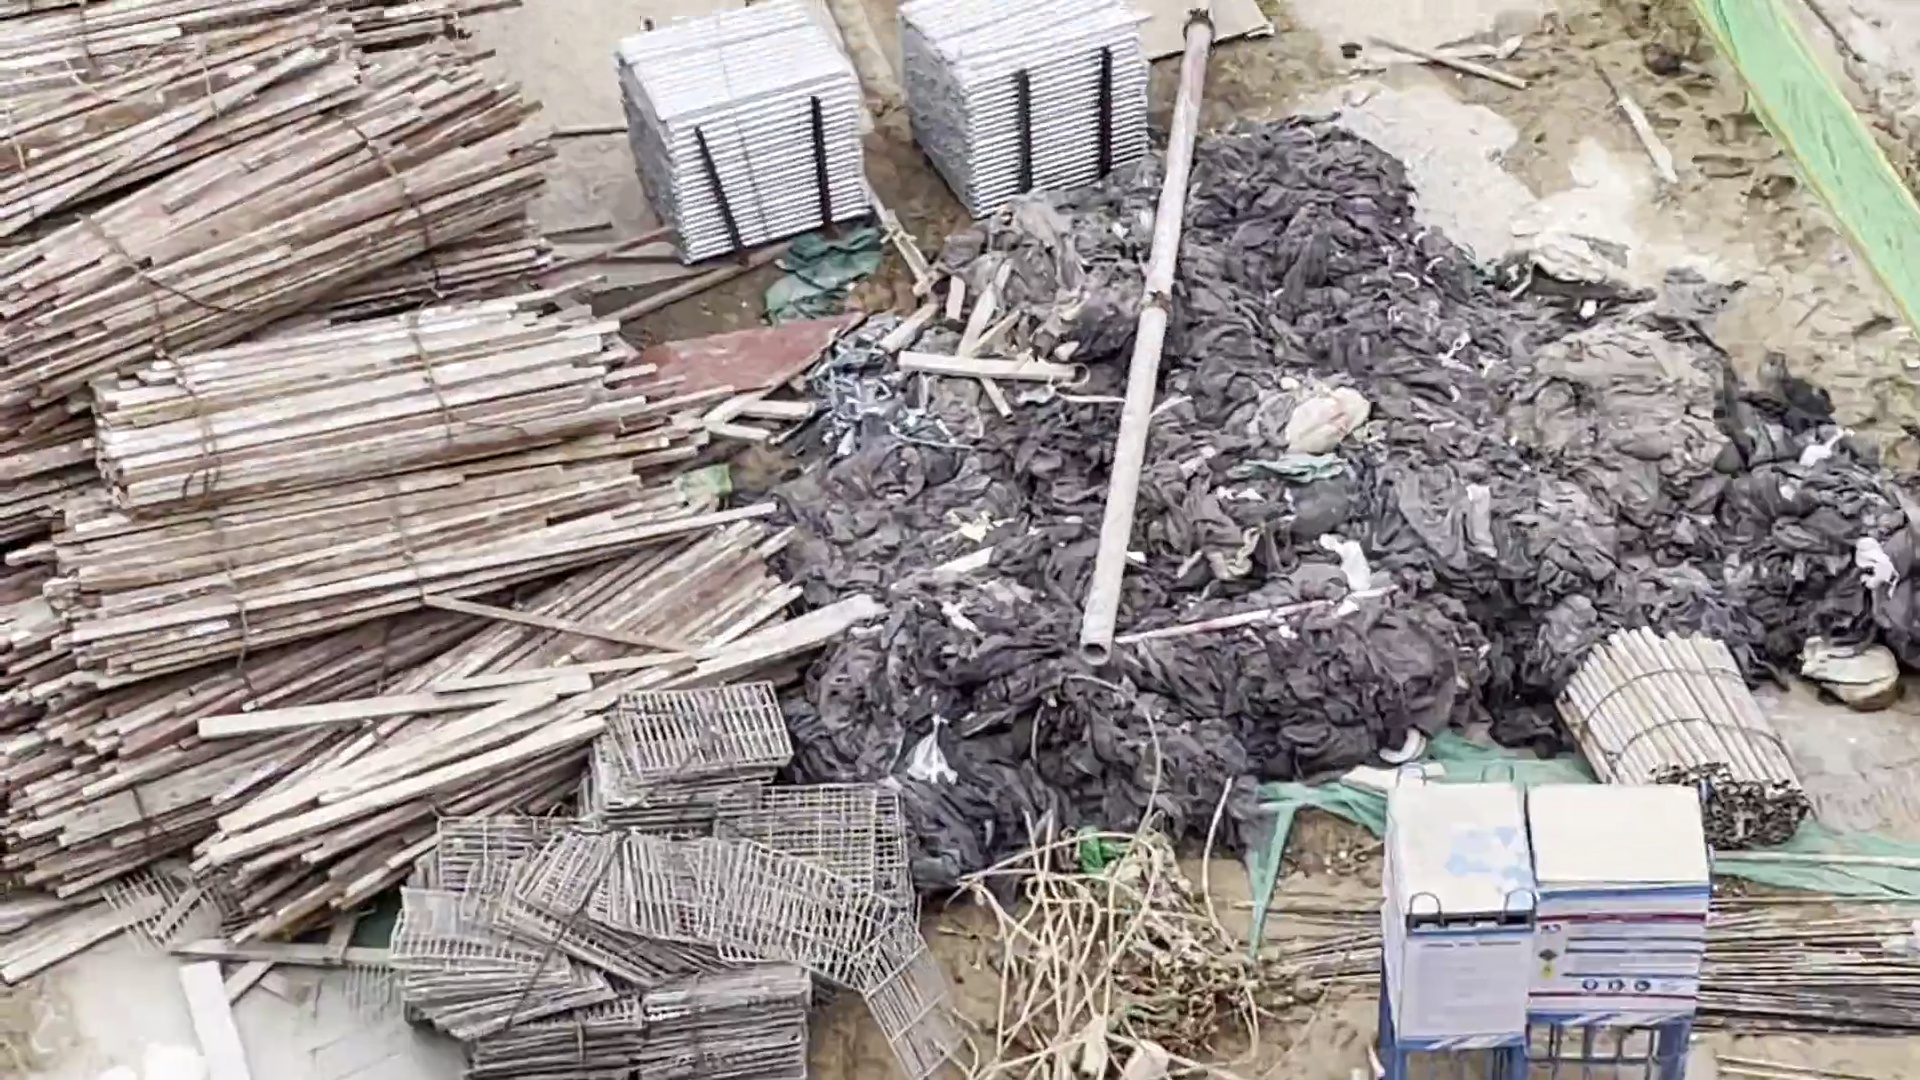scaffold: (607, 1, 1160, 272)
slogan: (1402, 880, 1706, 1065)
wood: (3, 98, 583, 411), (1, 468, 818, 684), (3, 285, 744, 516), (1, 1, 567, 245), (1, 593, 400, 939), (380, 670, 603, 820)
